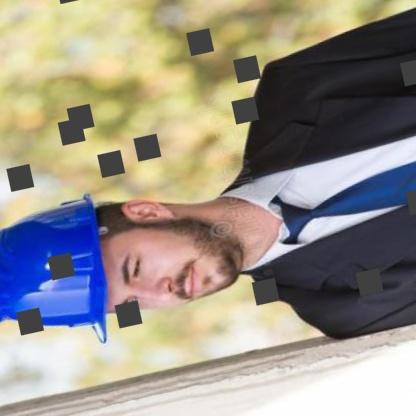blue: (0, 177, 139, 373)
